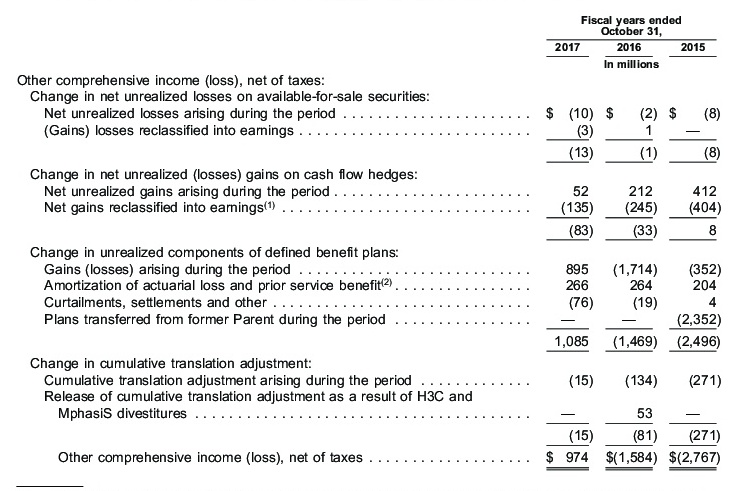table: (0, 0, 739, 491)
